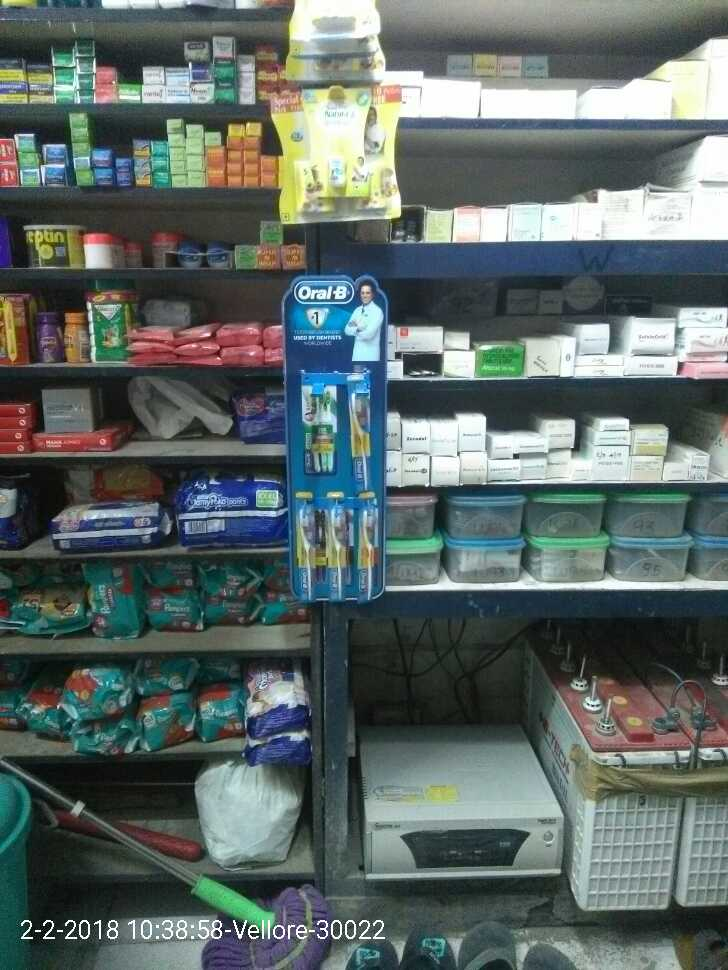oralb: (285, 491, 388, 608)
